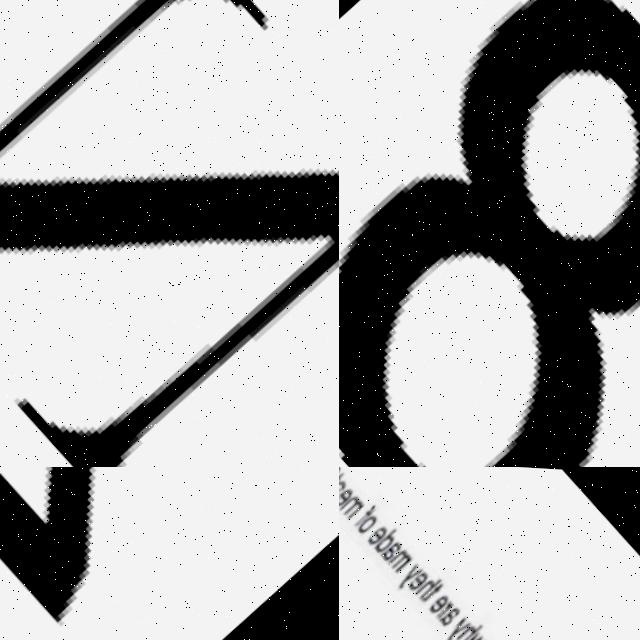8: (339, 0, 640, 467)
A: (439, 599, 466, 626), (381, 534, 406, 559), (339, 474, 350, 500)
D: (373, 523, 405, 555)
E: (407, 565, 434, 591), (429, 586, 455, 612), (366, 520, 390, 545), (339, 482, 356, 507)
F: (352, 498, 381, 527)
H: (417, 569, 444, 596), (457, 614, 484, 640)
M: (388, 542, 418, 572), (339, 489, 367, 518)
N: (0, 0, 339, 467)
O: (355, 509, 382, 535)
R: (435, 595, 457, 616)
T: (423, 578, 447, 602), (339, 467, 346, 491)
W: (463, 625, 492, 640)
Y: (395, 556, 427, 588), (444, 613, 472, 640)
